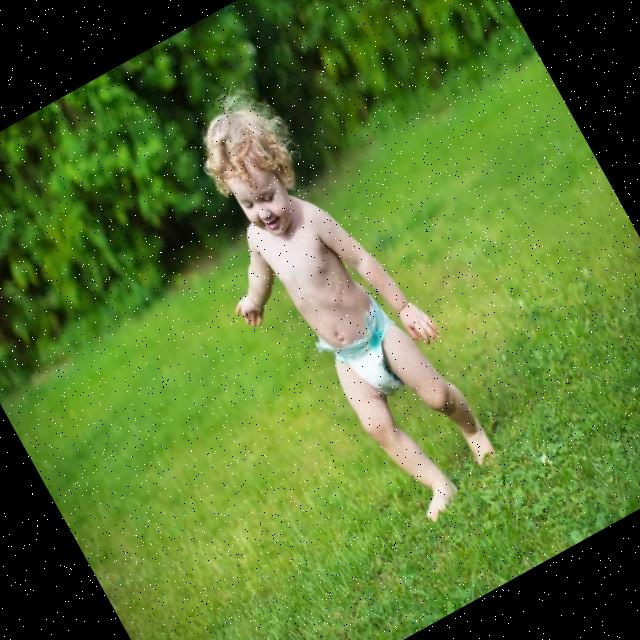Person: (147, 69, 519, 556)
